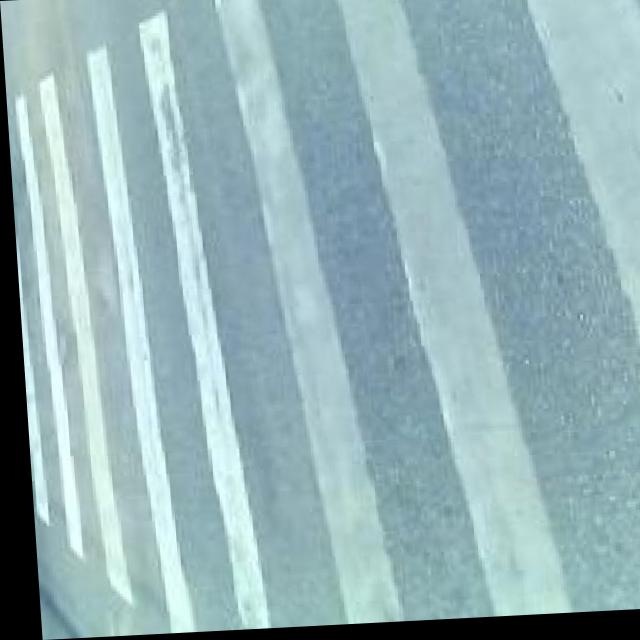zebra: (31, 86, 640, 559)
